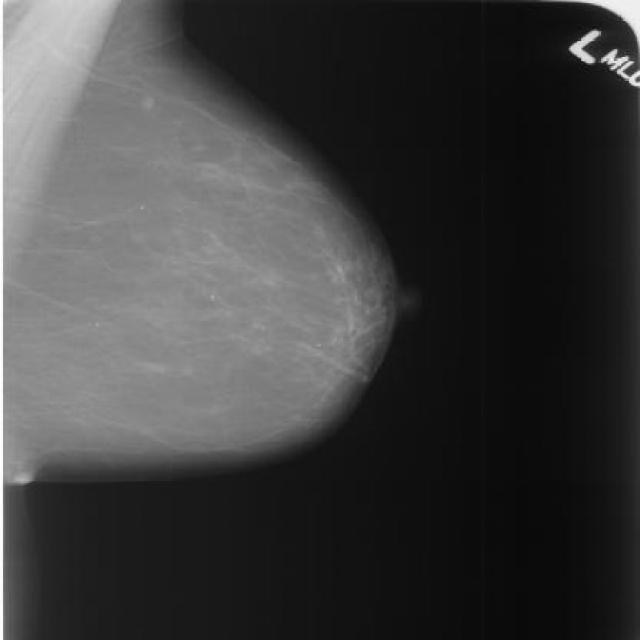tumor: (284, 198, 388, 398)
